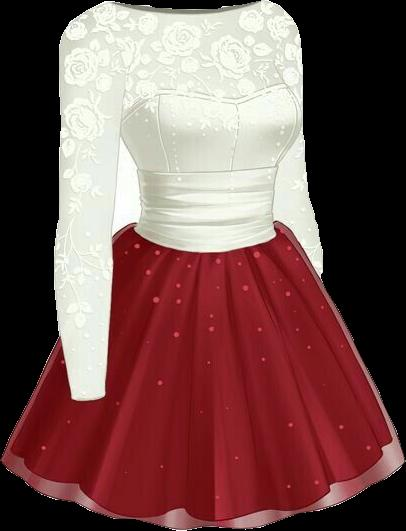Bodice: (92, 0, 302, 251)
Hemline: (0, 457, 405, 530)
Neckline: (123, 78, 289, 118), (112, 0, 268, 14), (134, 161, 279, 175)
Skirt: (1, 221, 404, 529)
Sleeve: (54, 8, 122, 400)
Sleeveline: (90, 6, 128, 140)
Waistline: (133, 222, 279, 254)
